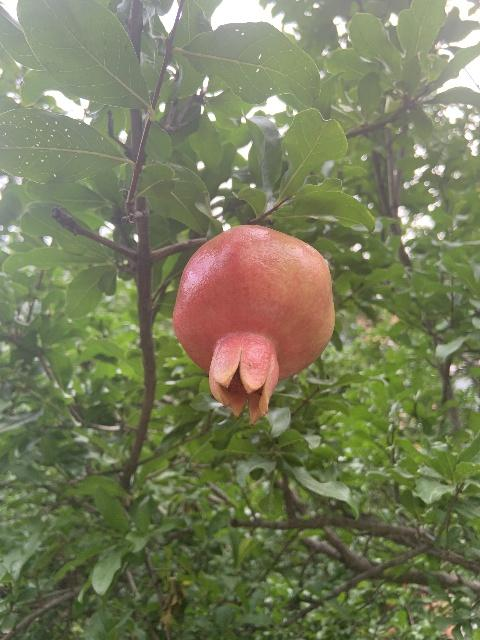ripe: (172, 224, 336, 425)
